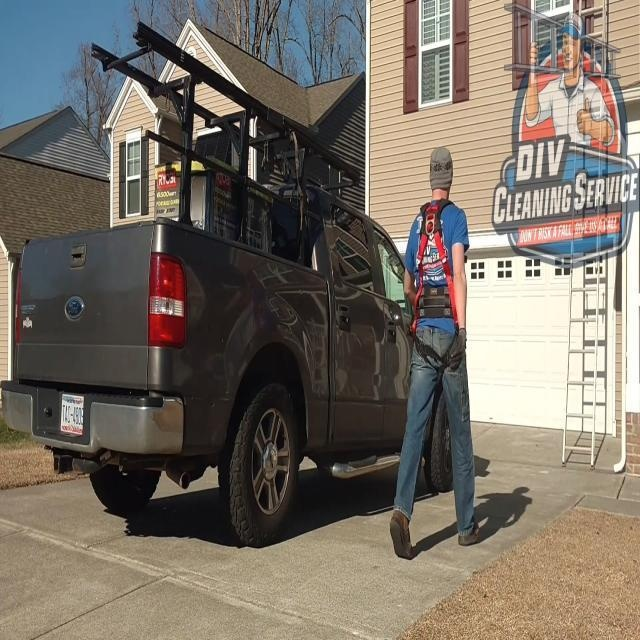Arnes_seguridad: (408, 197, 461, 369)
